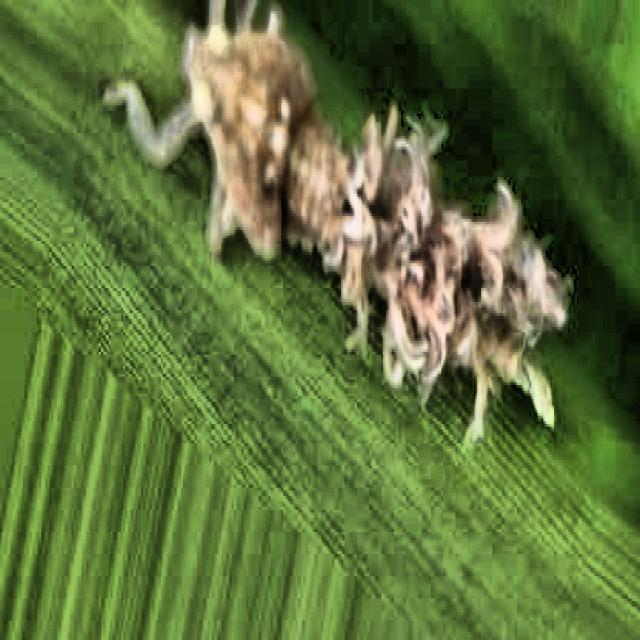Pyrilla-perpusilla: (27, 5, 591, 499)
